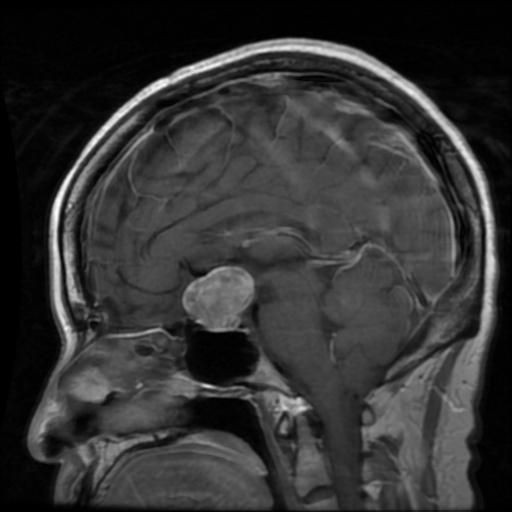pituitary: (181, 263, 255, 333)
